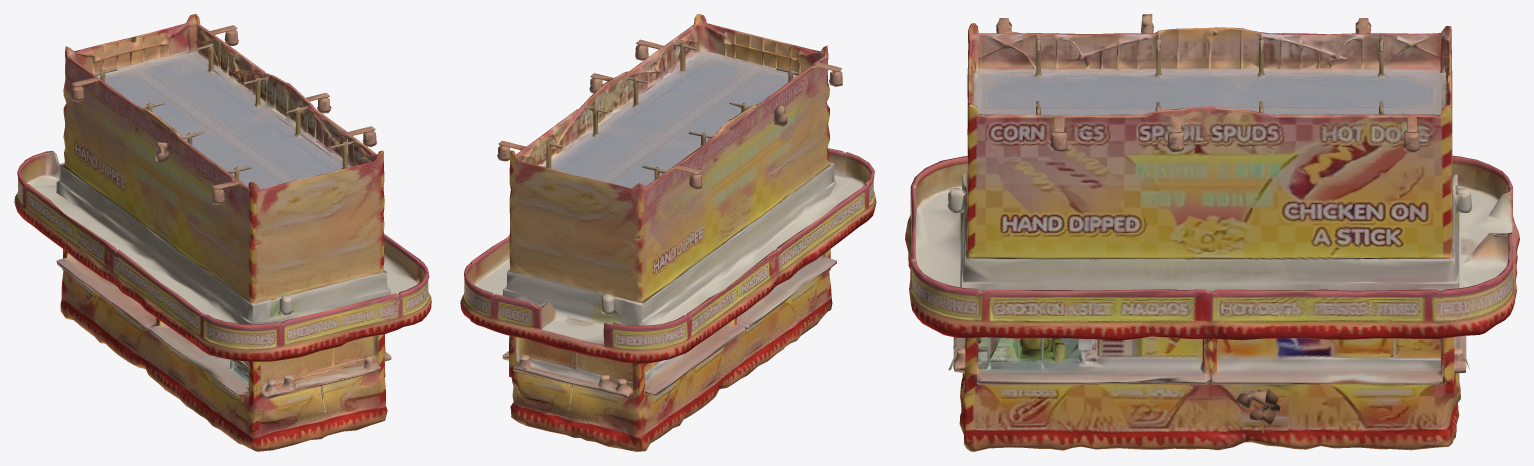
Rendered from corndog.glb.
The picture shows the model from 3 angles, left to right: view 1: azimuth 30°, elevation 25°; view 2: azimuth 150°, elevation 25°; view 3: azimuth 270°, elevation 25°; orthographic projection. The views are drawn at different scales.
Parts seen in each view (by area): view 1: tripo_node_dfe97835-5656-4021-bc50-efa2922ce6b8; view 2: tripo_node_dfe97835-5656-4021-bc50-efa2922ce6b8; view 3: tripo_node_dfe97835-5656-4021-bc50-efa2922ce6b8.
Part boxes in pixels (x1,y1,x2,y2): tripo_node_dfe97835-5656-4021-bc50-efa2922ce6b8: (14, 14, 431, 451); tripo_node_dfe97835-5656-4021-bc50-efa2922ce6b8: (460, 14, 876, 451); tripo_node_dfe97835-5656-4021-bc50-efa2922ce6b8: (905, 14, 1519, 451).
Bounding box in the file's own units: 0.6252 × 0.6234 × 1.
Materials: 1 (1 with a texture image).
